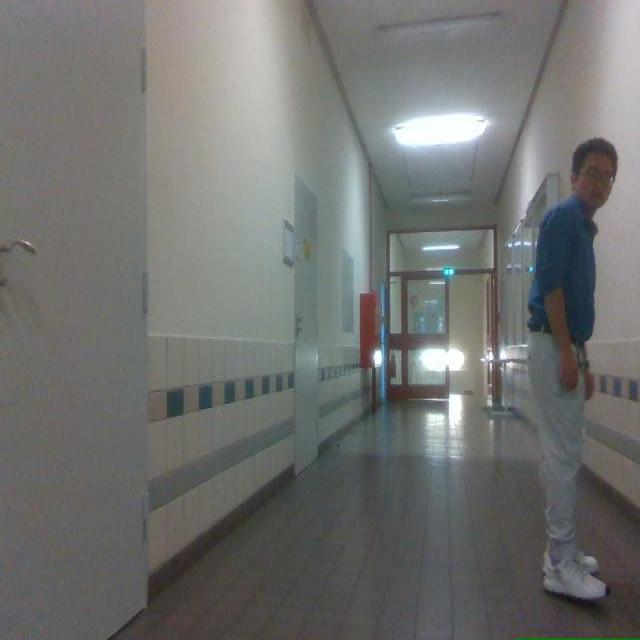humans: (528, 139, 616, 599)
